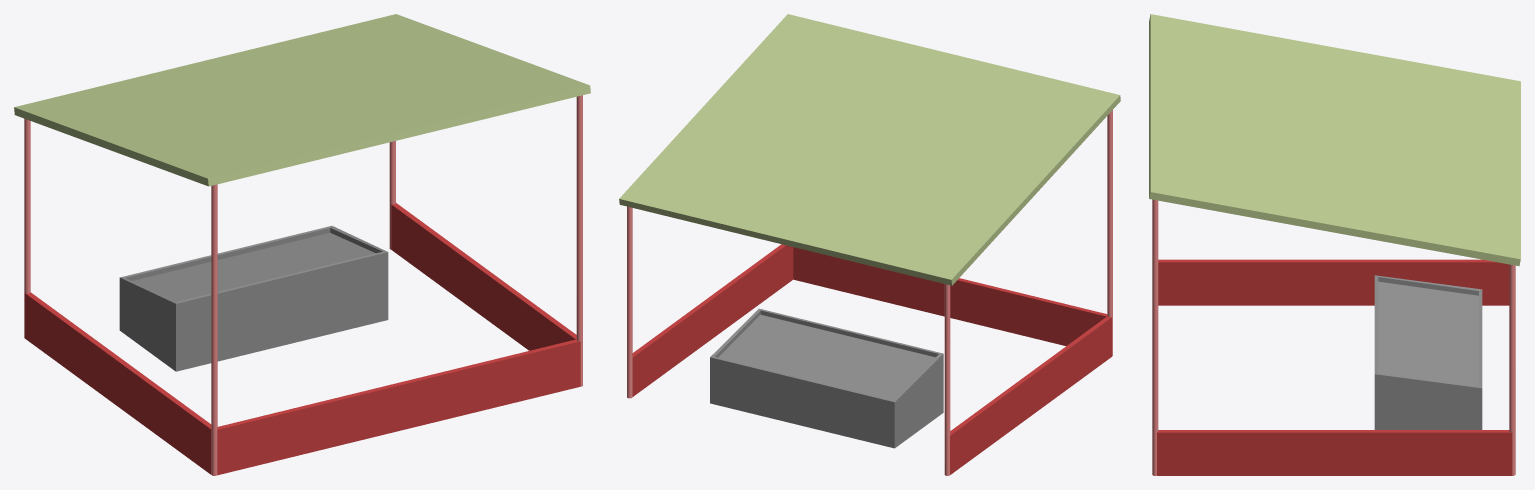
The picture shows the model from 3 angles, left to right: view 1: azimuth 30°, elevation 25°; view 2: azimuth 150°, elevation 25°; view 3: azimuth 270°, elevation 25°; orthographic projection. The views are drawn at different scales.
Parts seen in each view (by area): view 1: Box002, Box004, Box001, Cylinder002, Cylinder001; view 2: Box002, Box004, Box001, Cylinder001, Cylinder002; view 3: Box002, Box004, Box001, Cylinder002, Cylinder001.
Boxes of the visible parts, left/top/right/bottom form: Box002: left=14, top=14, right=590, bottom=186; Box004: left=24, top=203, right=580, bottom=475; Box001: left=119, top=226, right=388, bottom=371; Cylinder002: left=211, top=95, right=582, bottom=475; Cylinder001: left=24, top=118, right=395, bottom=337; Box002: left=619, top=14, right=1120, bottom=285; Box004: left=632, top=244, right=1111, bottom=474; Box001: left=710, top=308, right=943, bottom=448; Cylinder001: left=627, top=206, right=950, bottom=475; Cylinder002: left=1107, top=110, right=1112, bottom=356; Box002: left=1149, top=14, right=1520, bottom=266; Box004: left=1157, top=259, right=1512, bottom=475; Box001: left=1374, top=275, right=1482, bottom=429; Cylinder002: left=1152, top=199, right=1158, bottom=475; Cylinder001: left=1509, top=264, right=1515, bottom=475.
Bounding box in the file's own units: 106 × 79.71 × 93.78.
